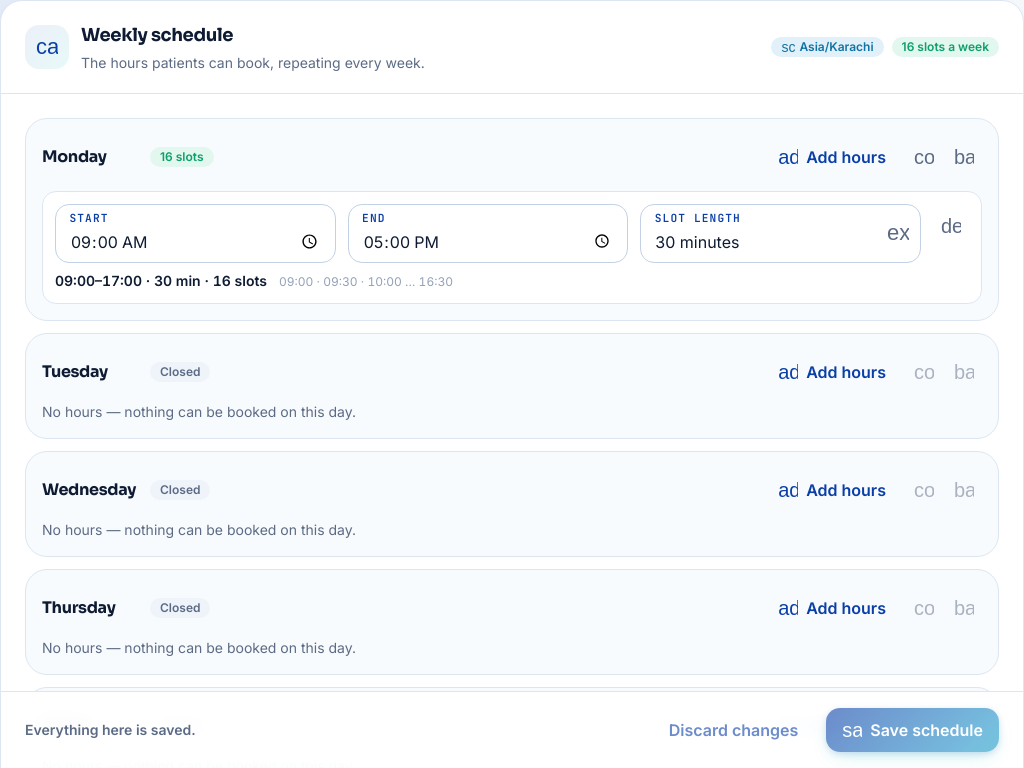
Test case: unsaved work › can be thrown away, returning to what was saved
Click the button named "Clear Monday" at (964, 157), box [946,139,982,175]
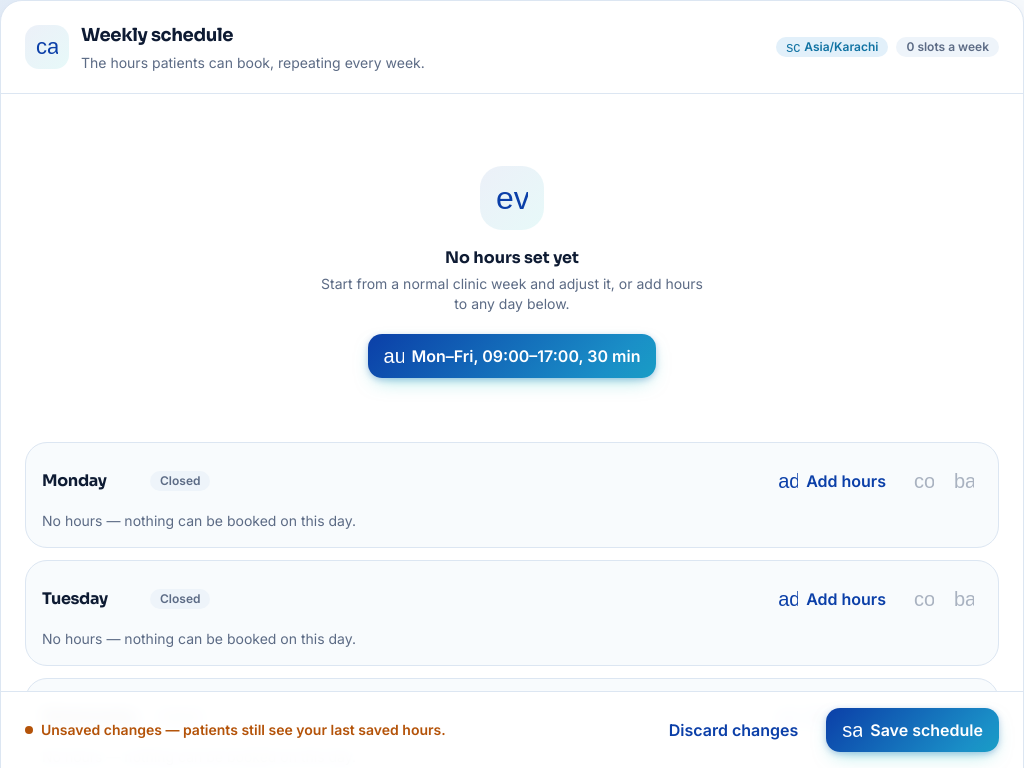
Check: the text "Unsaved changes — patients still see your last saved hours." is shown, box [25,721,446,738]
Click the button "Discard changes" at (734, 730), box [653,708,814,752]
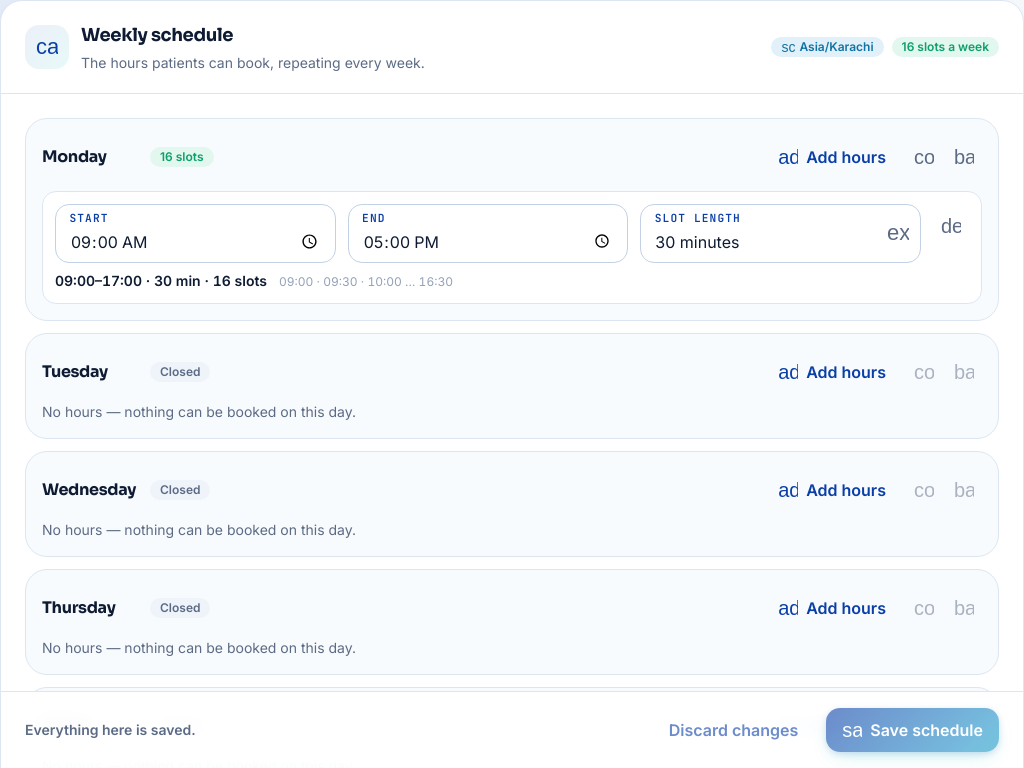
Check: the text "09:00–17:00 · 30 min · 16 slots" is shown, box [55,271,267,291]
Check: the text "Everything here is saved." is shown, box [25,721,196,738]
